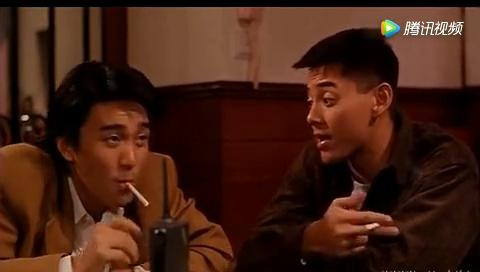smoke: (121, 177, 151, 207)
